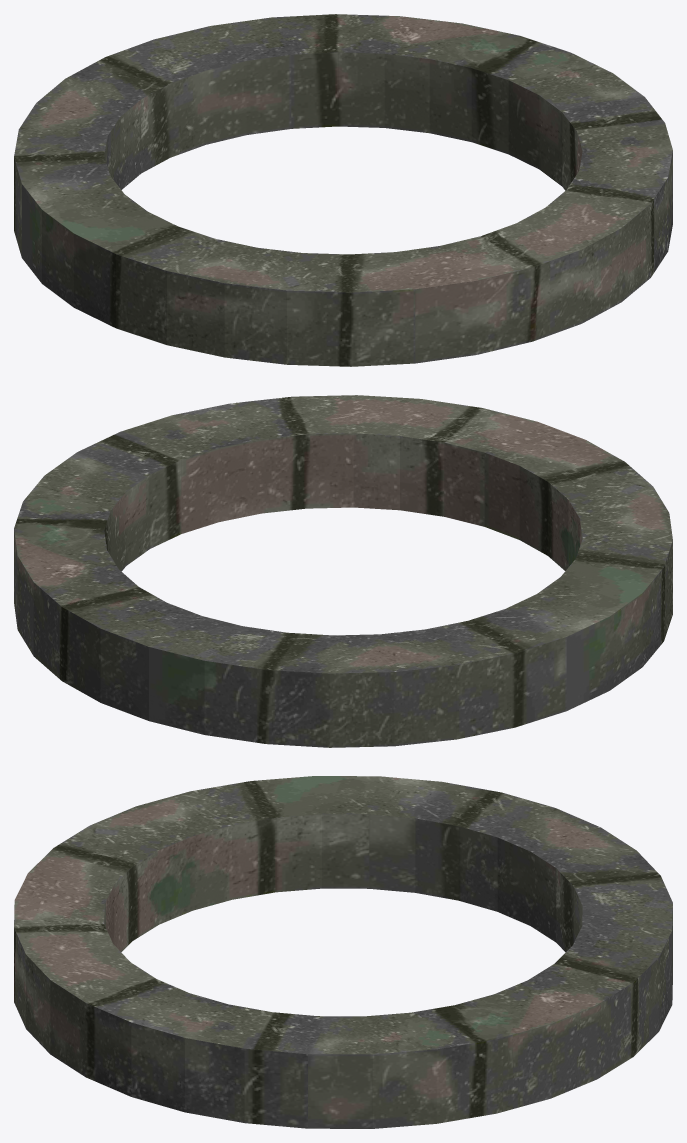
The model's file is StoneWell_part_20.fbx.
3 views of the same model, one above another, from view 1: azimuth 30°, elevation 25°; view 2: azimuth 150°, elevation 25°; view 3: azimuth 270°, elevation 25° (orthographic).
Parts seen in each view (by area): view 1: Cylinder.003_Brick_0.001; view 2: Cylinder.003_Brick_0.001; view 3: Cylinder.003_Brick_0.001.
Part boxes in pixels (box(x1,y1,x2,y2)): Cylinder.003_Brick_0.001: box(14, 14, 672, 366); Cylinder.003_Brick_0.001: box(14, 395, 672, 747); Cylinder.003_Brick_0.001: box(14, 776, 672, 1128).
Bounding box in the file's own units: 853 × 106 × 853.
